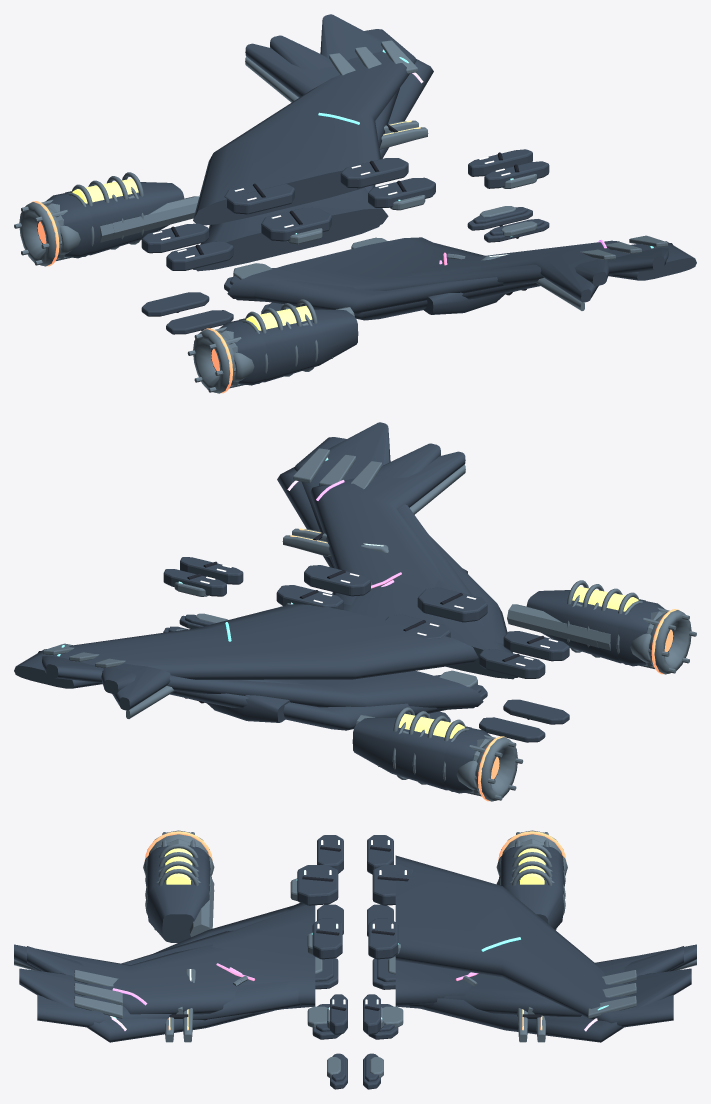
The model's file is tempest.glb.
3 views of the same model, one above another, from view 1: azimuth 30°, elevation 25°; view 2: azimuth 150°, elevation 25°; view 3: azimuth 270°, elevation 25° (orthographic).
Visible parts, largest first — view 1: w_vane Fitting gunmetal, w_razor Fitting gunmetal, p_heavy Fitting gunmetal, w_phantom Fitting gunmetal, e_twin Fitting gunmetal, w_prism Fitting gunmetal, e_nova Brushed fitting edges, e_nova Fitting gunmetal, e_twin Brushed fitting edges, p_light Brushed fitting edges, w_vane Brushed fitting edges, e_fusion Brushed fitting edges (+6 smaller); view 2: w_vane Fitting gunmetal, w_razor Fitting gunmetal, w_phantom Fitting gunmetal, p_heavy Fitting gunmetal, e_twin Fitting gunmetal, w_prism Fitting gunmetal, e_nova Brushed fitting edges, e_nova Fitting gunmetal, e_twin Brushed fitting edges, w_vane Brushed fitting edges, e_fusion Brushed fitting edges, e_fusion e_fusion emitter (+6 smaller); view 3: w_vane Fitting gunmetal, w_razor Fitting gunmetal, w_phantom Fitting gunmetal, p_heavy Fitting gunmetal, w_prism Fitting gunmetal, e_twin Fitting gunmetal, w_vane Brushed fitting edges, e_fusion Brushed fitting edges, p_light Brushed fitting edges, e_fusion e_fusion emitter, m_siege Brushed fitting edges, p_aegis Fitting gunmetal (+6 smaller).
Part boxes in pixels (<box>): w_vane Fitting gunmetal: <box>193,29,696,314</box>; w_razor Fitting gunmetal: <box>193,35,609,300</box>; p_heavy Fitting gunmetal: <box>141,149,549,334</box>; w_phantom Fitting gunmetal: <box>195,43,619,302</box>; e_twin Fitting gunmetal: <box>65,182,358,382</box>; w_prism Fitting gunmetal: <box>209,14,672,320</box>; e_nova Brushed fitting edges: <box>14,199,245,393</box>; e_nova Fitting gunmetal: <box>37,193,266,385</box>; e_twin Brushed fitting edges: <box>59,195,354,381</box>; p_light Brushed fitting edges: <box>233,174,537,309</box>; w_vane Brushed fitting edges: <box>329,40,667,259</box>; e_fusion Brushed fitting edges: <box>45,172,332,385</box>; w_vane Fitting gunmetal: <box>14,437,512,688</box>; w_razor Fitting gunmetal: <box>101,443,517,709</box>; w_phantom Fitting gunmetal: <box>112,451,514,710</box>; p_heavy Fitting gunmetal: <box>163,557,569,742</box>; e_twin Fitting gunmetal: <box>352,590,645,790</box>; w_prism Fitting gunmetal: <box>38,422,446,730</box>; e_nova Brushed fitting edges: <box>465,607,696,801</box>; e_nova Fitting gunmetal: <box>444,601,673,793</box>; e_twin Brushed fitting edges: <box>356,603,651,789</box>; w_vane Brushed fitting edges: <box>43,448,381,667</box>; e_fusion Brushed fitting edges: <box>378,580,665,793</box>; e_fusion e_fusion emitter: <box>398,586,638,738</box>; w_vane Fitting gunmetal: <box>37,855,673,1027</box>; w_razor Fitting gunmetal: <box>27,903,683,1006</box>; w_phantom Fitting gunmetal: <box>14,944,696,1016</box>; p_heavy Fitting gunmetal: <box>297,835,412,1089</box>; w_prism Fitting gunmetal: <box>19,968,691,1042</box>; e_twin Fitting gunmetal: <box>146,855,564,942</box>; w_vane Brushed fitting edges: <box>74,970,636,1018</box>; e_fusion Brushed fitting edges: <box>154,839,556,930</box>; p_light Brushed fitting edges: <box>290,878,403,1077</box>; e_fusion e_fusion emitter: <box>164,848,546,884</box>; m_siege Brushed fitting edges: <box>165,1008,545,1042</box>; p_aegis Fitting gunmetal: <box>315,958,395,1081</box>.
Size of the model in its own units: 43.76 by 10.7 by 57.96.
